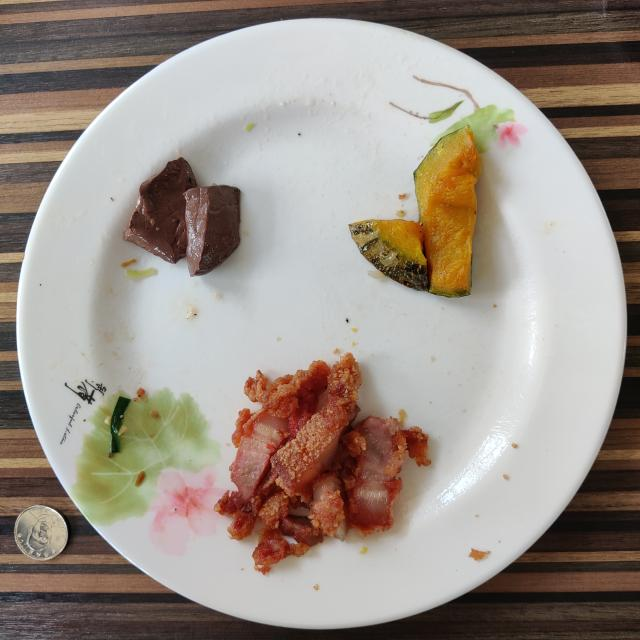coin: (14, 505, 68, 561)
pig blood curd: (124, 158, 240, 276)
pumpkin: (349, 126, 481, 298)
red grilled pork: (215, 352, 430, 574)
